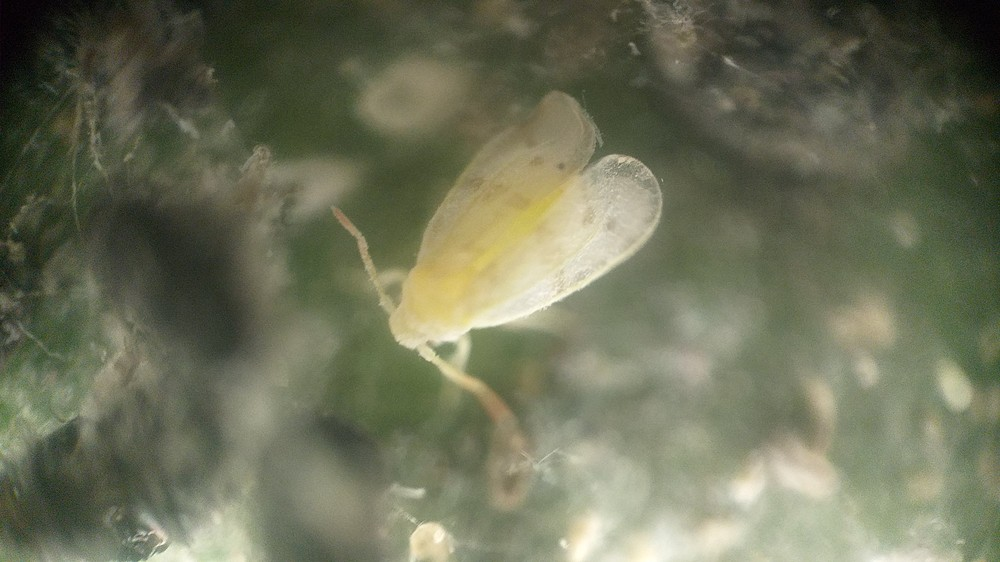Mosca Blanca: (320, 90, 689, 454)
